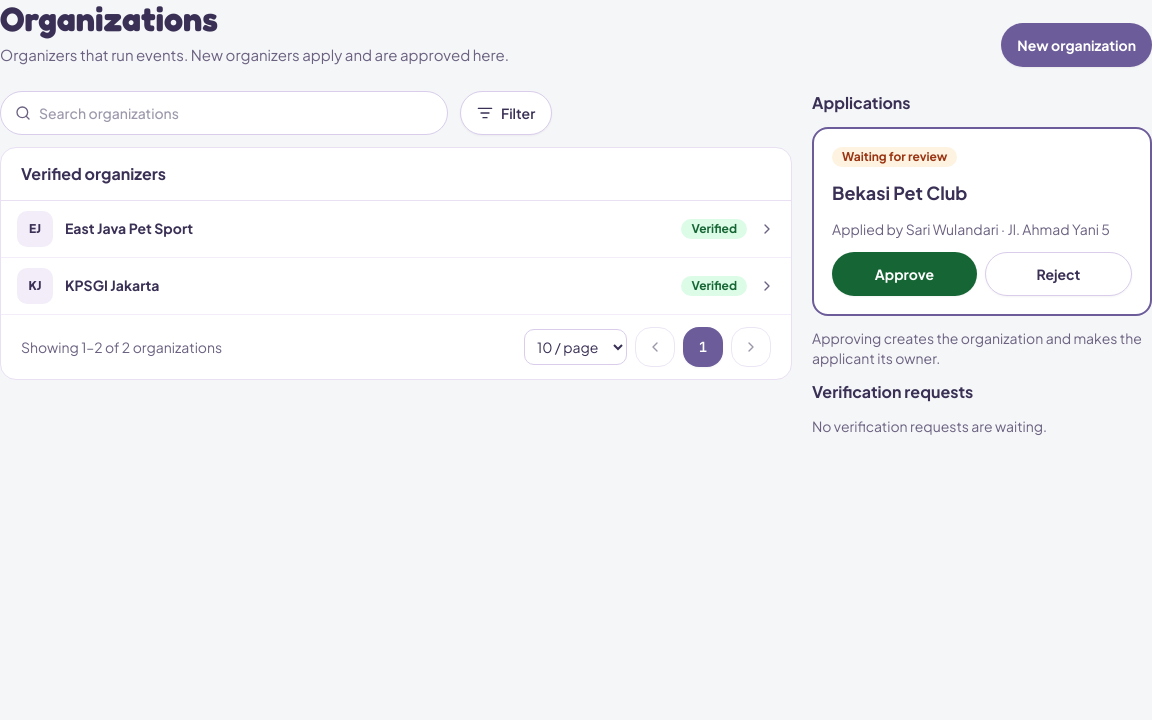
Scenario: OrganizationsPage › narrows the list with the filter panel
Expected: the link "EJ East Java Pet Sport Verified" is shown, [1, 200, 791, 258]
Click the button "Filter" at x=506, y=112, box [460, 90, 552, 134]
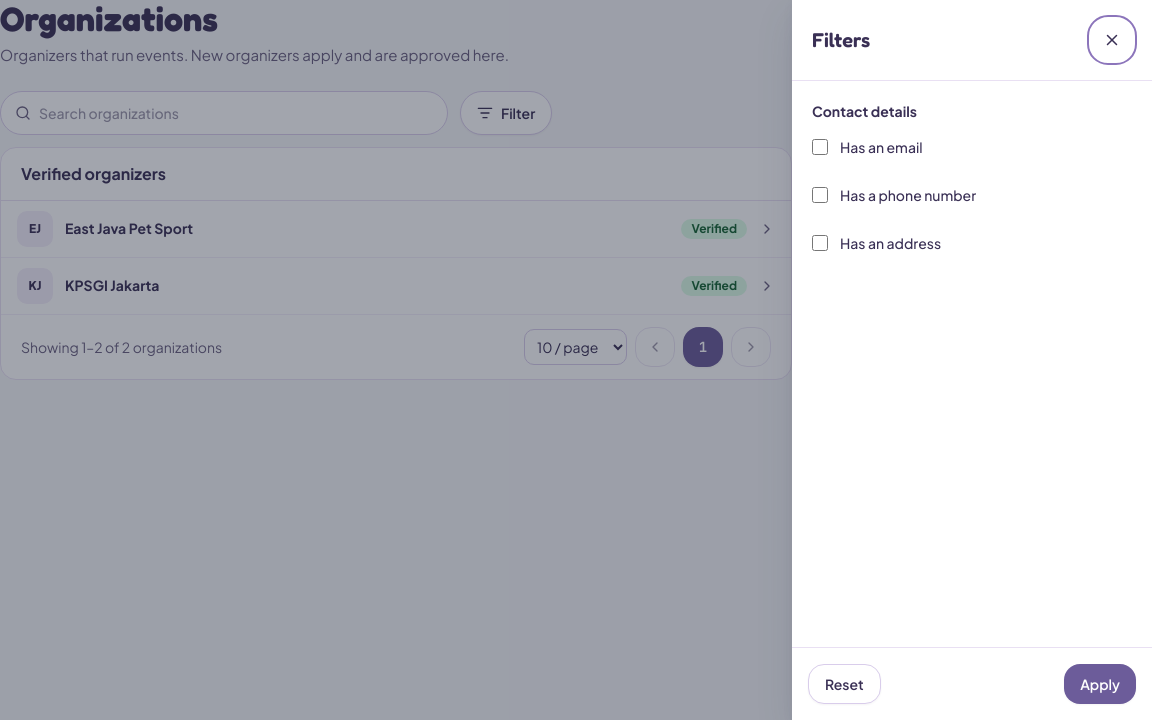
Click the checkbox labelled "Has an email" at x=820, y=147, box [812, 139, 828, 155]
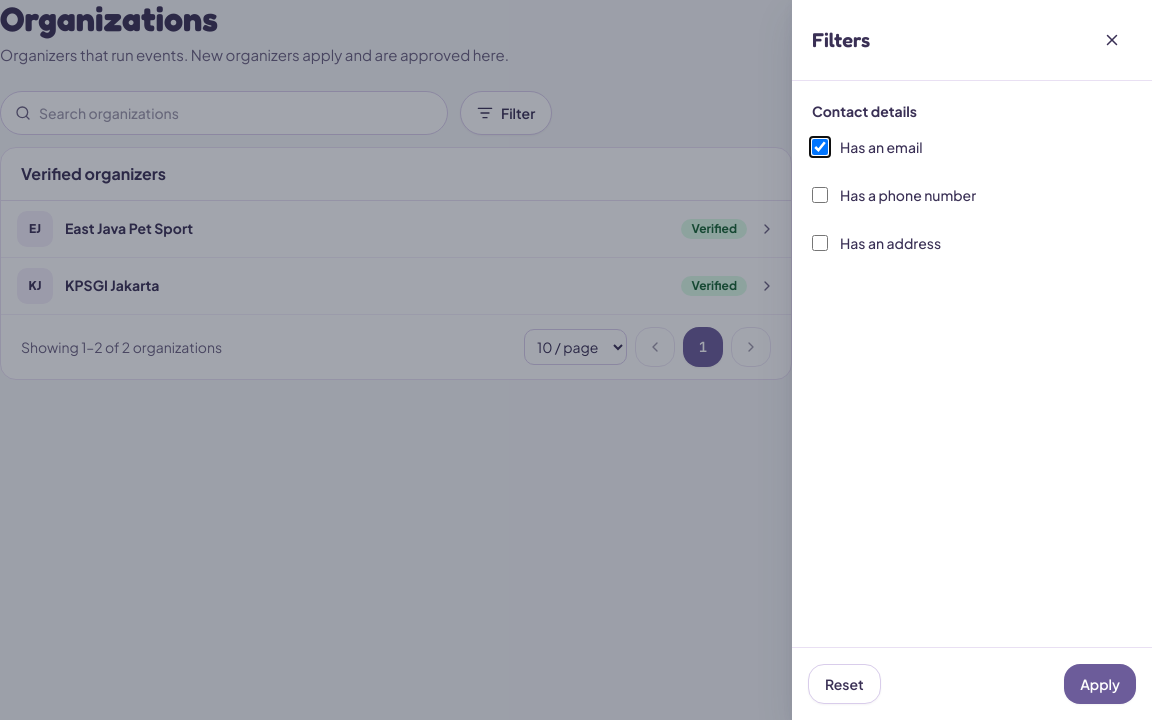
Click the button "Apply" at x=1100, y=684, box [1064, 664, 1136, 704]
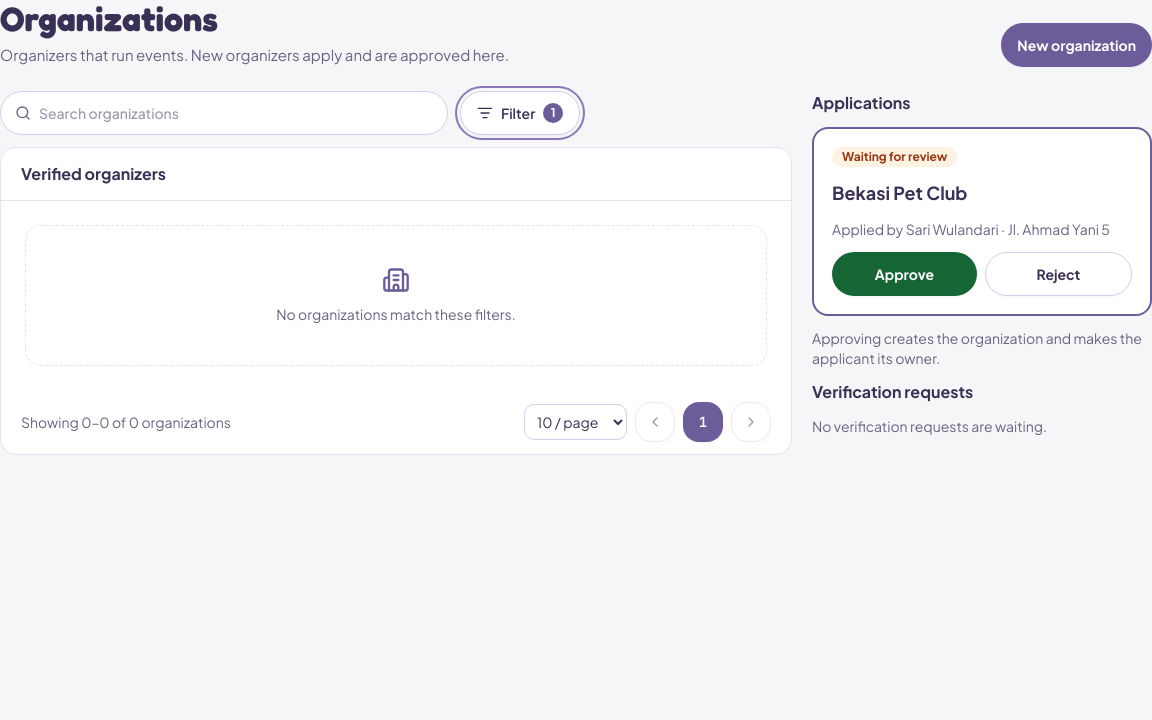
Result: the text "No organizations match these filters." is shown at [276, 304, 516, 324]
